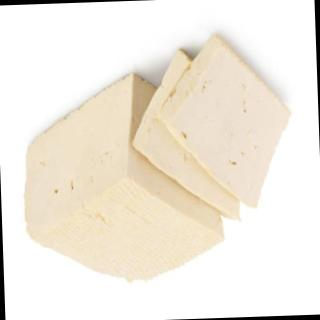Tahu: (14, 25, 301, 298)
